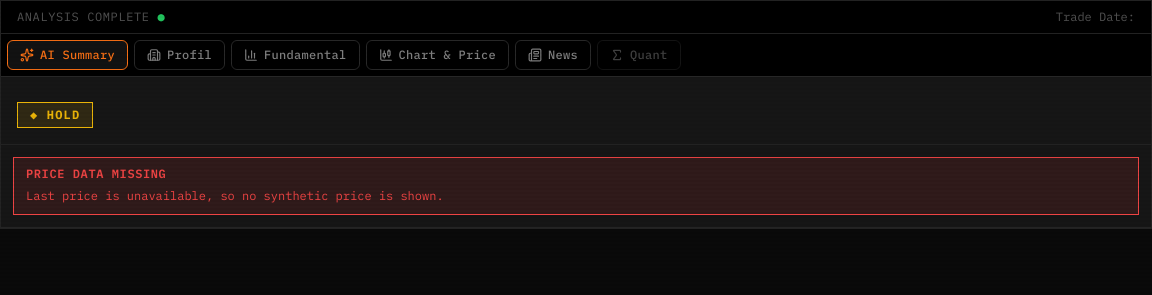
Test case: ResultCard risk-engine contract › renders Profile empty state when company profile is unavailable
Click the tab "Profil" at (180, 55), box left=134, top=40, right=225, bottom=70
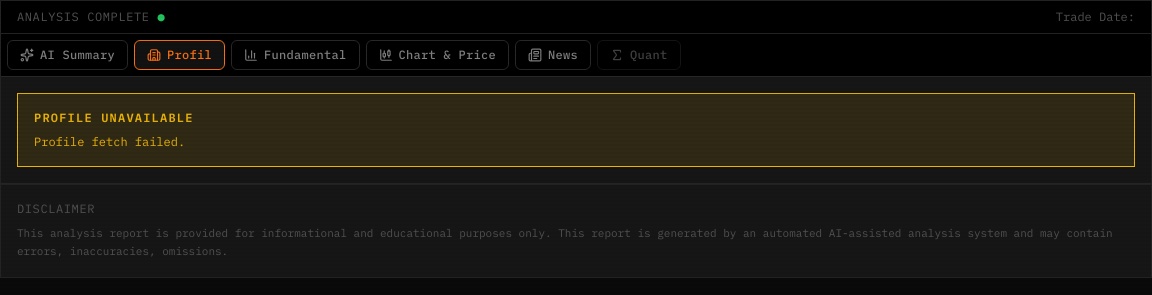
Now the text "PROFILE UNAVAILABLE" is shown, box left=34, top=110, right=194, bottom=125
Now the text "Profile fetch failed." is shown, box left=34, top=134, right=185, bottom=149
